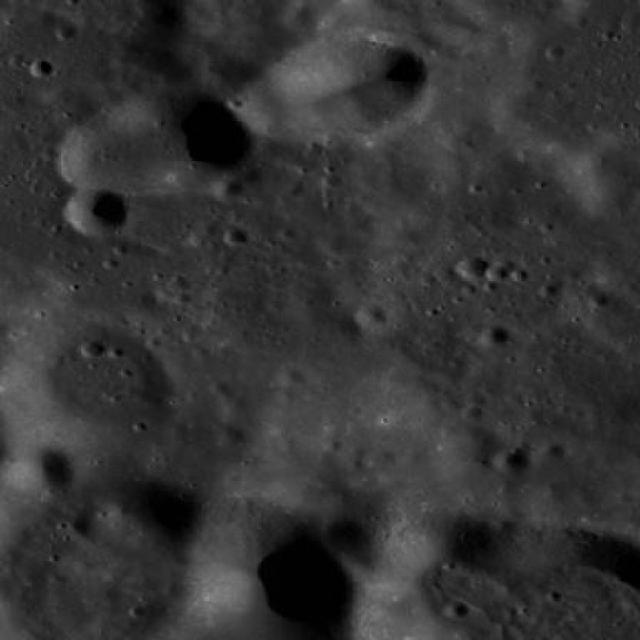crater: (0, 317, 178, 462), (74, 83, 238, 209), (256, 28, 418, 154), (0, 10, 89, 98), (493, 78, 592, 156), (435, 425, 523, 493), (4, 441, 76, 497), (64, 188, 128, 237), (332, 483, 386, 525), (198, 51, 242, 85), (494, 448, 534, 477), (284, 3, 318, 29), (385, 224, 418, 250), (356, 303, 387, 328), (460, 256, 489, 279), (479, 326, 507, 348), (217, 426, 245, 448), (215, 178, 242, 200), (440, 600, 466, 620), (280, 368, 306, 387), (540, 442, 565, 460), (30, 59, 53, 78), (486, 263, 509, 282), (225, 228, 248, 246), (166, 272, 187, 290), (240, 165, 262, 182), (82, 340, 104, 357), (620, 10, 640, 28), (56, 24, 76, 40), (464, 404, 484, 420), (1, 1, 2, 2), (0, 1, 1, 2)
